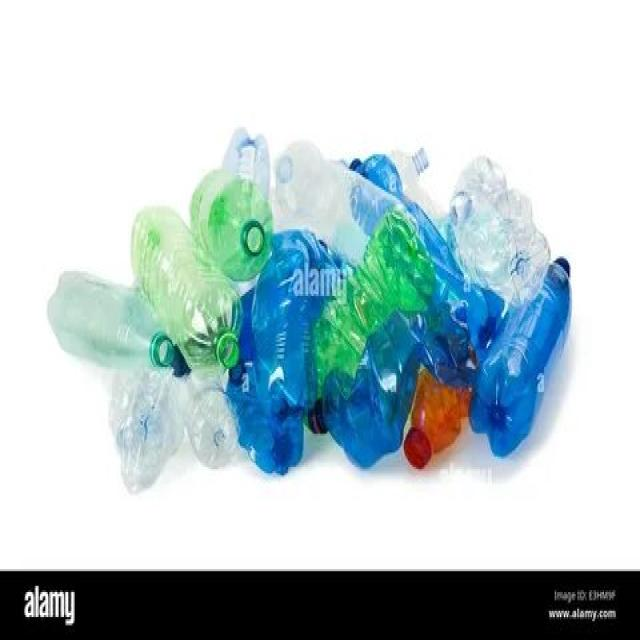brown: (410, 364, 472, 455)
green: (310, 207, 435, 399), (131, 205, 245, 369), (189, 167, 274, 282)
